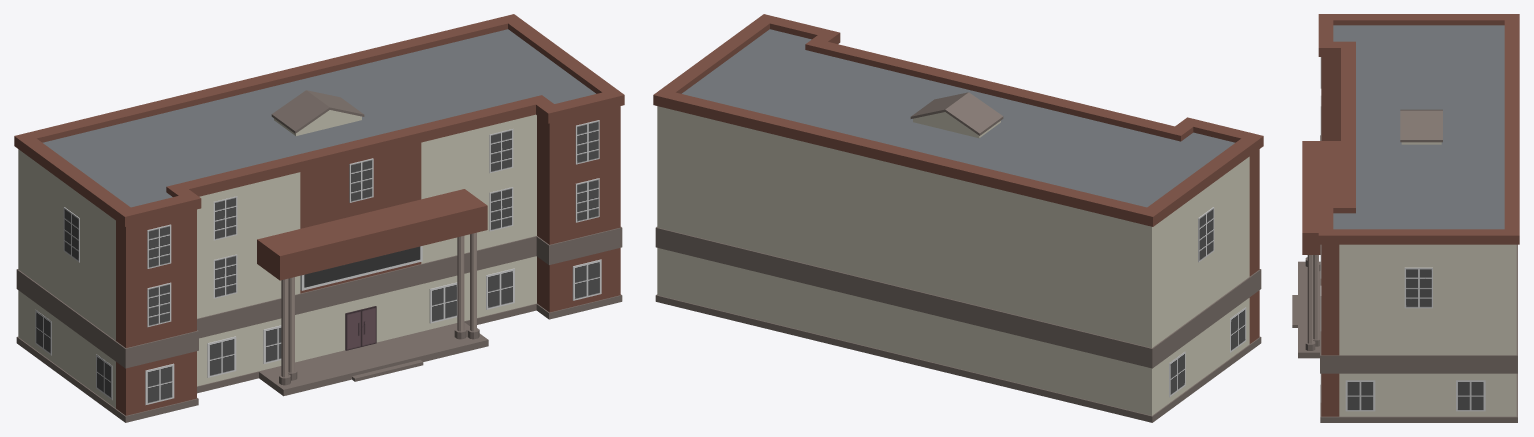
File: governorship01_color02.fbx
The picture shows the model from 3 angles, left to right: view 1: azimuth 30°, elevation 25°; view 2: azimuth 150°, elevation 25°; view 3: azimuth 270°, elevation 25°; orthographic projection. The views are drawn at different scales.
Visible parts, largest first — view 1: governorship01_color02; view 2: governorship01_color02; view 3: governorship01_color02.
Part boxes in pixels (<box>): governorship01_color02: <box>14,14,624,422</box>; governorship01_color02: <box>653,14,1263,422</box>; governorship01_color02: <box>1292,14,1519,422</box>.
Bounding box in the file's own units: 3032 × 1291 × 1313.
